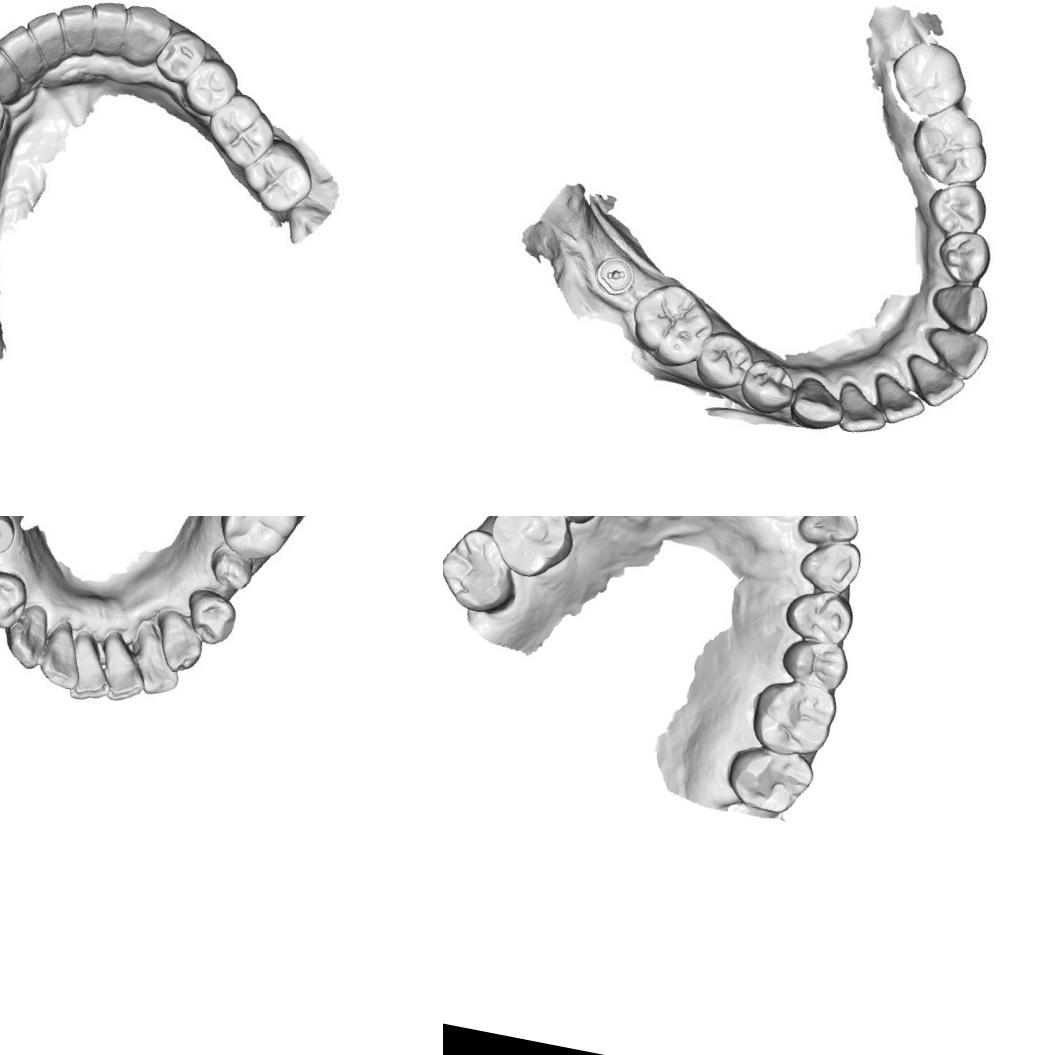canine: (791, 530, 867, 600), (116, 1, 176, 72), (148, 608, 208, 678), (0, 597, 53, 674), (926, 272, 991, 334), (786, 372, 849, 434), (0, 41, 28, 105)
crown: (201, 542, 259, 596)
implant: (0, 516, 18, 558)
implant_minus: (589, 252, 638, 298)
incisor: (914, 319, 992, 382), (898, 348, 968, 412), (94, 636, 154, 707), (66, 630, 121, 707), (131, 628, 189, 701), (866, 368, 931, 431), (35, 626, 90, 694), (832, 378, 890, 438), (19, 5, 72, 69), (49, 0, 100, 63), (0, 20, 49, 84), (83, 0, 132, 60), (792, 516, 865, 553)
molar: (622, 274, 719, 374), (743, 672, 842, 762), (884, 32, 974, 123), (443, 521, 525, 619), (720, 739, 818, 820), (904, 105, 992, 191), (234, 134, 320, 220), (198, 86, 280, 176), (481, 516, 583, 583), (214, 516, 308, 568)
premolar: (778, 581, 860, 650), (776, 630, 854, 694), (922, 174, 991, 240), (690, 326, 756, 395), (179, 53, 244, 122), (150, 22, 212, 90), (931, 224, 996, 288), (736, 355, 800, 419), (182, 586, 241, 650), (0, 564, 31, 632)
